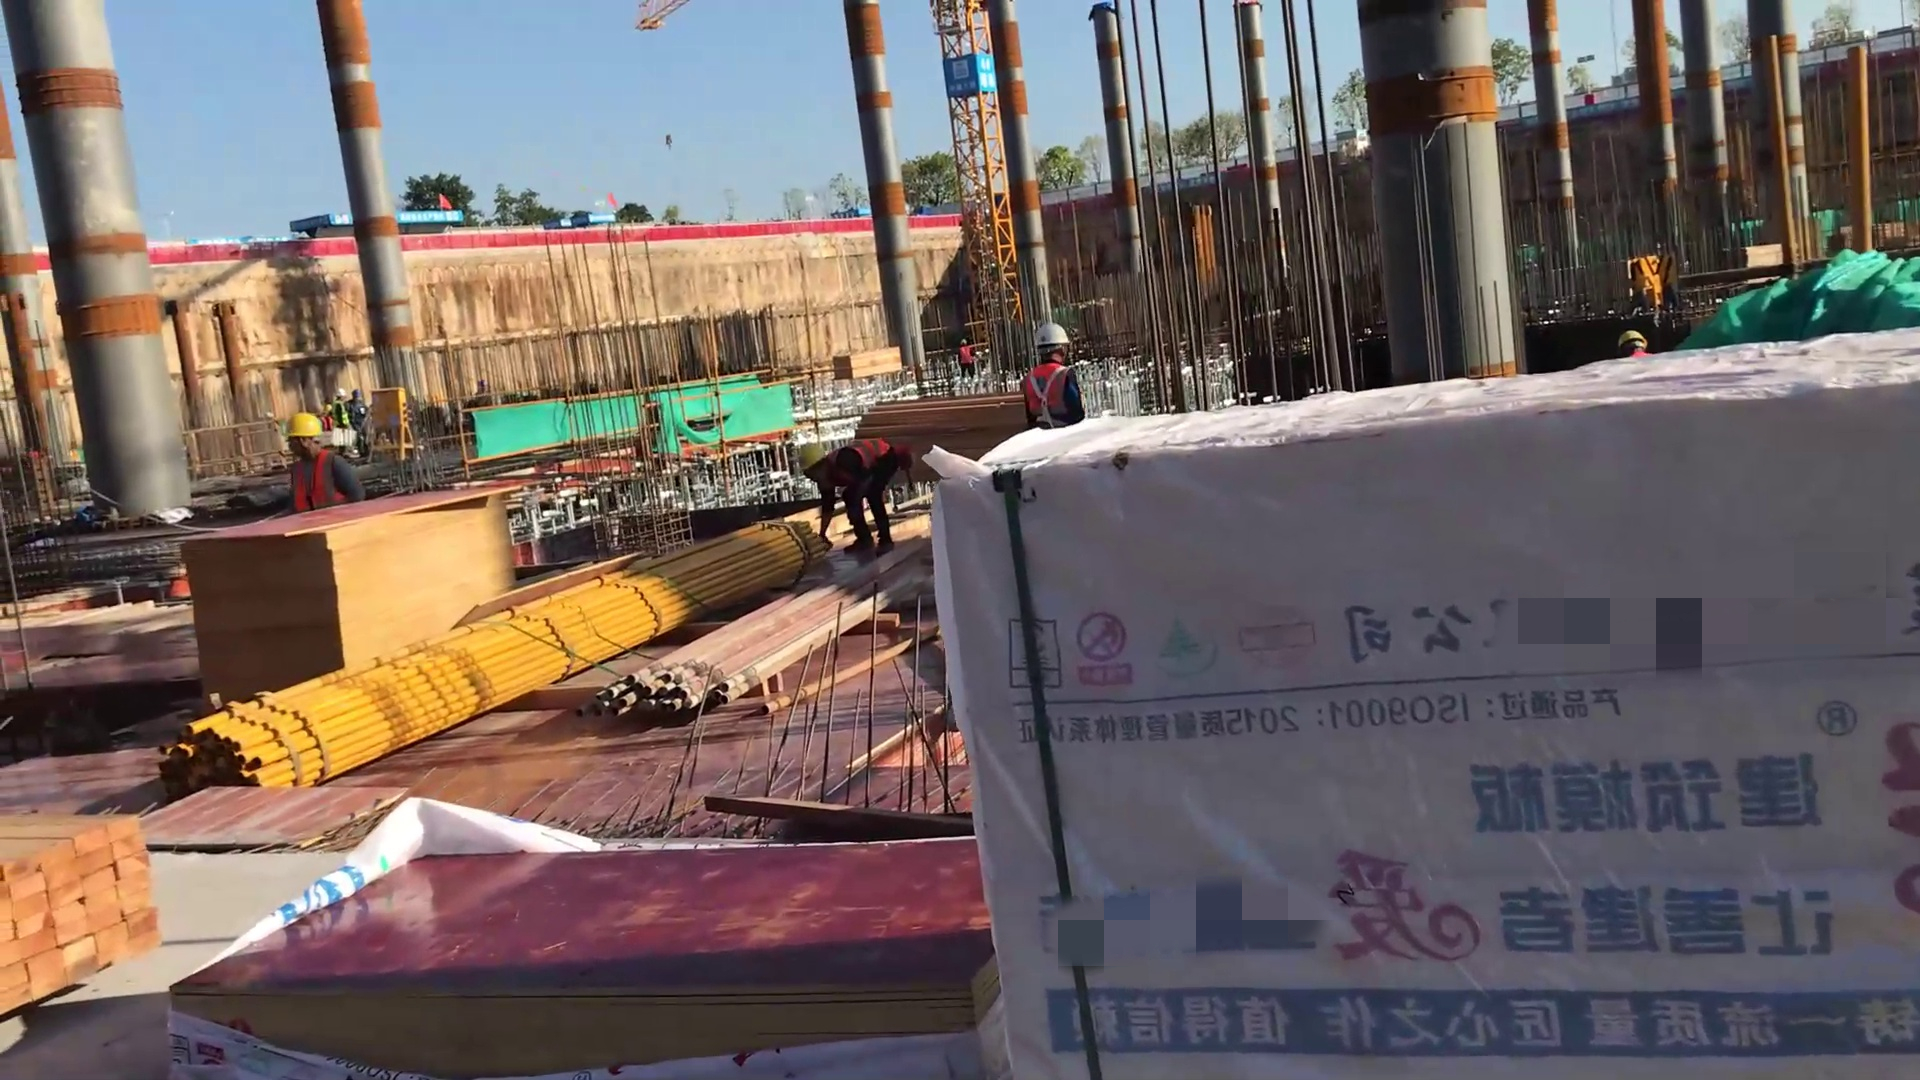helmet: (1028, 316, 1081, 362), (278, 405, 331, 448), (797, 437, 833, 480)
person: (793, 427, 913, 570), (1008, 305, 1103, 448), (276, 408, 369, 529)
vest: (1013, 359, 1076, 433), (288, 451, 342, 516), (842, 436, 893, 473)
